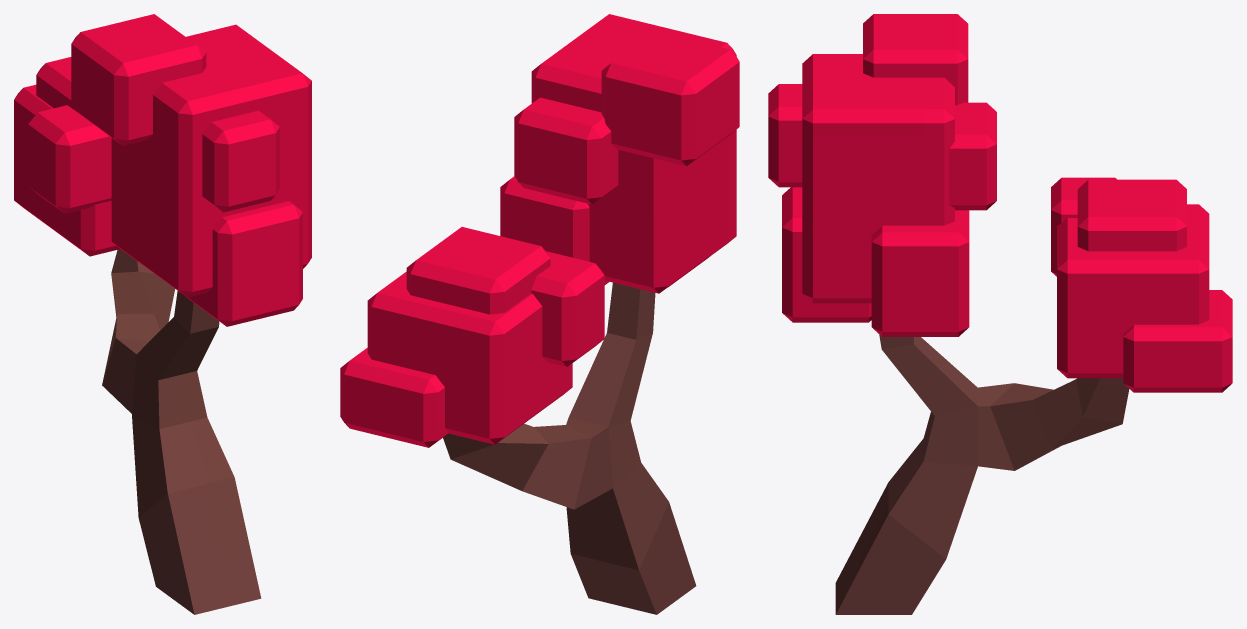
Rendered from TreePackage.fbx_Tree_000.fbx.
3 views of the same model, side by side, from view 1: azimuth 30°, elevation 25°; view 2: azimuth 150°, elevation 25°; view 3: azimuth 270°, elevation 25° (orthographic). The views are drawn at different scales.
Visible parts, largest first — view 1: Cube.003, Plane.007; view 2: Cube.003, Plane.007; view 3: Cube.003, Plane.007.
Boxes of the visible parts, x1=… form: Cube.003: x1=14, y1=14, x2=311, y2=326; Plane.007: x1=102, y1=249, x2=261, y2=614; Cube.003: x1=340, y1=14, x2=739, y2=447; Plane.007: x1=443, y1=282, x2=696, y2=614; Cube.003: x1=768, y1=14, x2=1232, y2=392; Plane.007: x1=835, y1=334, x2=1129, y2=614.
Bounding box in the file's own units: 320 × 787 × 609.
